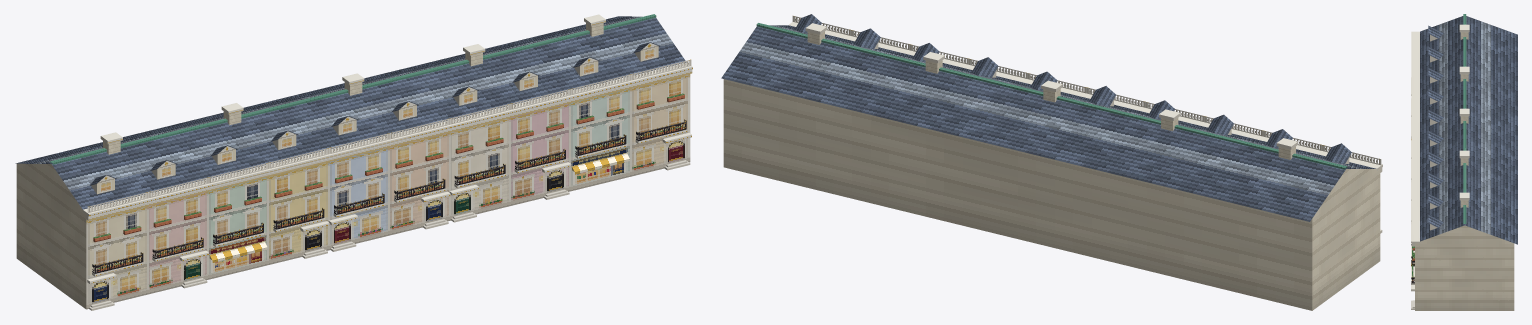
The model's file is env_bld_terrace_rich.glb.
3 views of the same model, side by side, from view 1: azimuth 30°, elevation 25°; view 2: azimuth 150°, elevation 25°; view 3: azimuth 270°, elevation 25° (orthographic). The views are drawn at different scales.
Parts seen in each view (by area): view 1: env_bld_terrace_rich; view 2: env_bld_terrace_rich; view 3: env_bld_terrace_rich.
Part boxes in pixels (x1,y1,x2,y2): env_bld_terrace_rich: [15, 14, 692, 310]; env_bld_terrace_rich: [721, 14, 1382, 310]; env_bld_terrace_rich: [1411, 14, 1517, 310].
Bounding box in the file's own units: 0.1 × 0.021 × 0.0215.
5 materials, 5 textured.
